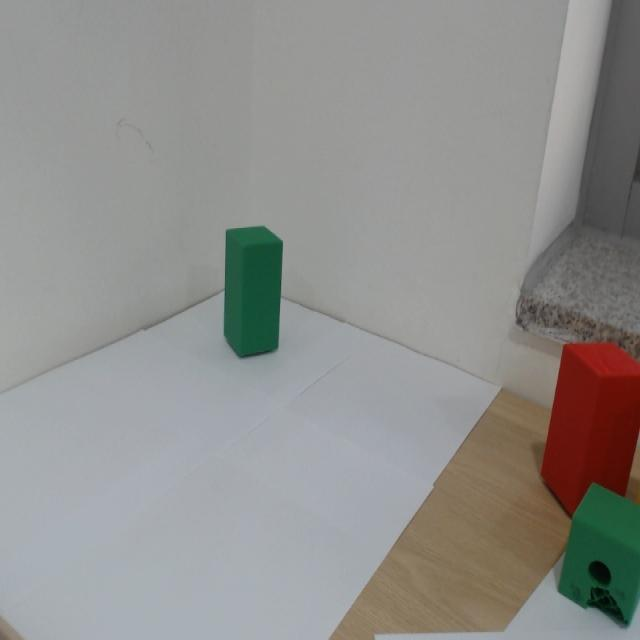cube: (211, 176, 304, 388)
